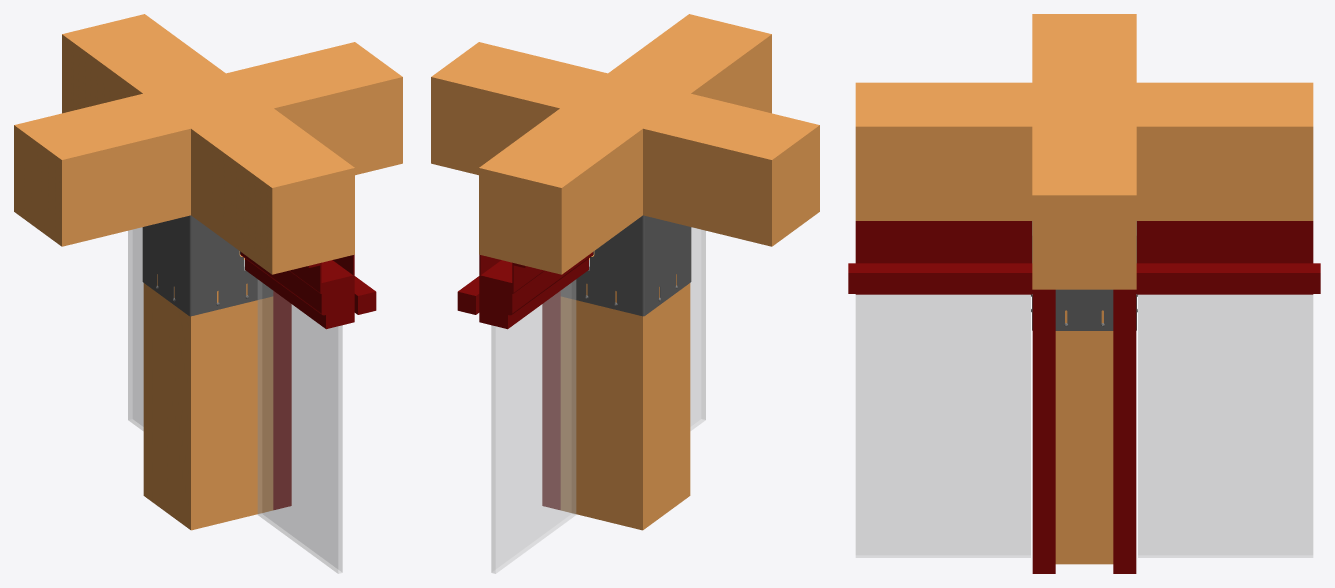
File: столбпрямой.obj
3 renders of one model, left to right at view 1: azimuth 30°, elevation 25°; view 2: azimuth 150°, elevation 25°; view 3: azimuth 270°, elevation 25°, orthographic. The views are drawn at different scales.
Bounding box in the file's own units: 0.749 × 0.844 × 0.825.
